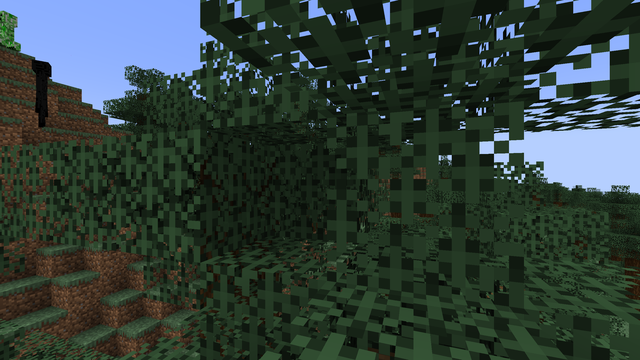creepers: (0, 7, 18, 50)
endermens: (28, 56, 54, 127)
